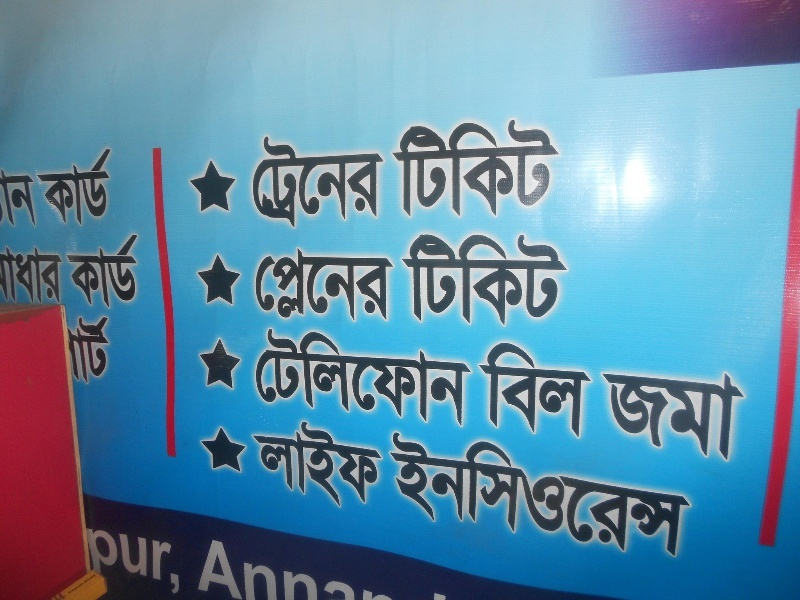text: (401, 428, 416, 564), (417, 428, 432, 564), (433, 428, 448, 564), (449, 428, 464, 564), (465, 428, 480, 564), (481, 428, 496, 564), (497, 428, 512, 564), (513, 428, 528, 564), (529, 428, 544, 564), (545, 428, 560, 564), (561, 428, 576, 564), (577, 428, 592, 564), (593, 428, 608, 564), (609, 428, 624, 564), (625, 428, 640, 564), (641, 428, 656, 564), (657, 428, 672, 564), (673, 428, 688, 564), (386, 428, 400, 564), (577, 338, 593, 440), (609, 358, 624, 464), (625, 358, 640, 464), (641, 358, 656, 464), (657, 358, 672, 464), (673, 358, 688, 464), (689, 358, 704, 464), (705, 358, 720, 464), (721, 358, 736, 464), (257, 412, 272, 517), (273, 412, 288, 517), (289, 412, 304, 517), (305, 412, 320, 517), (321, 412, 336, 517), (337, 412, 352, 517), (353, 412, 368, 517), (369, 412, 384, 517), (257, 327, 272, 430), (273, 327, 288, 430), (289, 327, 304, 430), (305, 327, 320, 430), (321, 327, 336, 430), (337, 327, 352, 430), (353, 327, 368, 430), (369, 327, 384, 430), (385, 327, 400, 430), (401, 327, 416, 430), (417, 327, 432, 430), (433, 327, 448, 430), (449, 327, 464, 430), (481, 338, 496, 440), (497, 338, 512, 440), (513, 338, 528, 440), (529, 338, 544, 440), (545, 338, 560, 440), (561, 338, 576, 440), (401, 117, 416, 217), (417, 117, 432, 217), (433, 117, 448, 217), (449, 117, 464, 217), (465, 117, 480, 217), (481, 117, 496, 217), (497, 117, 512, 217), (513, 117, 528, 217), (529, 117, 544, 217), (545, 117, 560, 217), (257, 135, 272, 232), (273, 135, 288, 232), (289, 135, 304, 232), (305, 135, 320, 232), (321, 135, 336, 232), (337, 135, 352, 232), (353, 135, 368, 232), (369, 135, 384, 232), (401, 233, 416, 327), (417, 233, 432, 327), (433, 233, 448, 327), (449, 233, 464, 327), (465, 233, 480, 327), (481, 233, 496, 327), (497, 233, 512, 327), (513, 233, 528, 327), (529, 233, 544, 327), (545, 233, 560, 327), (257, 247, 272, 324), (273, 247, 288, 324), (289, 247, 304, 324), (305, 247, 320, 324), (321, 247, 336, 324), (337, 247, 352, 324), (353, 247, 368, 324), (369, 247, 384, 324), (49, 149, 64, 226), (65, 149, 80, 226), (81, 149, 96, 226), (81, 234, 96, 311), (97, 234, 112, 311), (113, 234, 128, 311), (689, 428, 697, 564), (97, 149, 111, 226), (81, 316, 96, 383), (129, 234, 142, 311), (390, 117, 400, 217), (97, 529, 112, 595), (113, 529, 128, 595), (129, 529, 144, 595), (145, 529, 160, 595), (161, 529, 176, 595), (209, 536, 224, 600), (225, 536, 240, 600), (241, 536, 256, 600), (257, 536, 272, 600), (273, 536, 288, 600), (289, 536, 304, 600), (305, 536, 320, 600), (321, 536, 336, 600), (337, 536, 352, 600), (353, 536, 368, 600), (369, 536, 384, 600), (385, 536, 400, 600), (401, 536, 416, 600), (417, 536, 432, 600), (433, 536, 448, 600), (737, 358, 746, 464), (68, 234, 80, 311), (1, 167, 16, 227), (17, 167, 32, 227), (194, 536, 208, 600), (67, 316, 80, 383), (97, 316, 110, 383), (17, 247, 32, 305), (33, 247, 48, 305), (465, 327, 473, 430), (2, 247, 16, 305), (49, 247, 63, 305), (385, 247, 395, 324), (38, 149, 48, 226), (86, 529, 96, 595), (602, 358, 608, 464), (250, 412, 256, 517), (561, 233, 567, 327), (476, 338, 480, 440), (252, 135, 256, 232), (81, 574, 97, 596), (177, 529, 182, 595), (65, 574, 80, 596), (449, 536, 452, 600), (385, 135, 386, 232), (33, 167, 34, 227)
